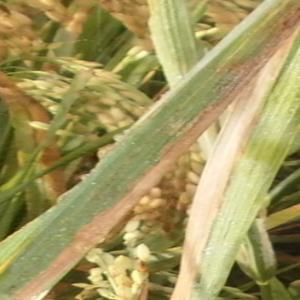Bacterial_Blight: (1, 166, 115, 300), (224, 63, 289, 229)
